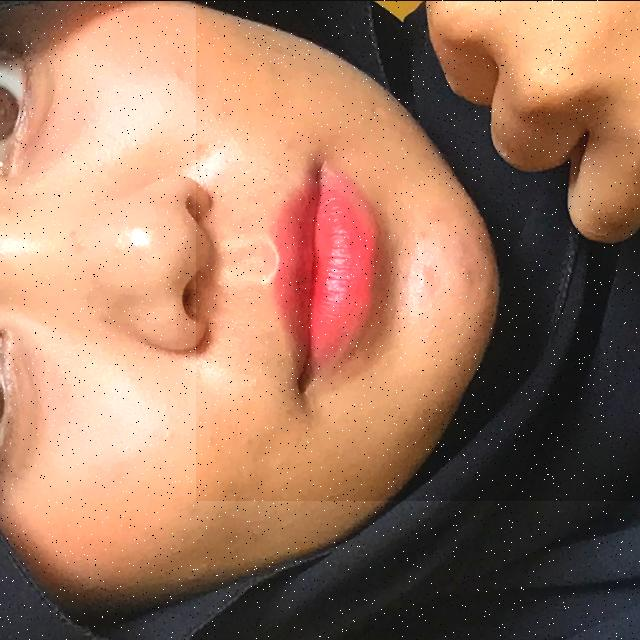telpon: (196, 0, 640, 500)
